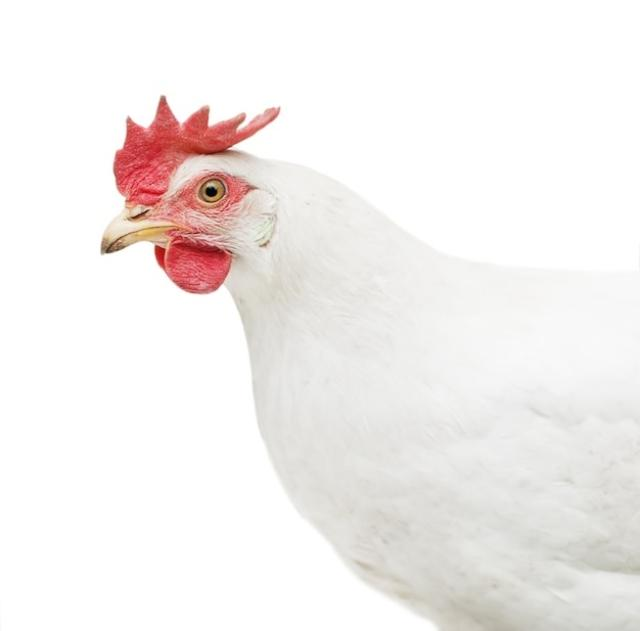Chicken: (100, 94, 640, 631)
